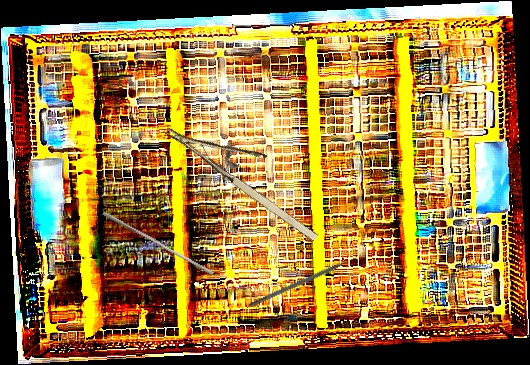Hook Surgical: (248, 253, 362, 309)
Needle Holder: (163, 96, 338, 247)
Pusher: (99, 210, 217, 277)
